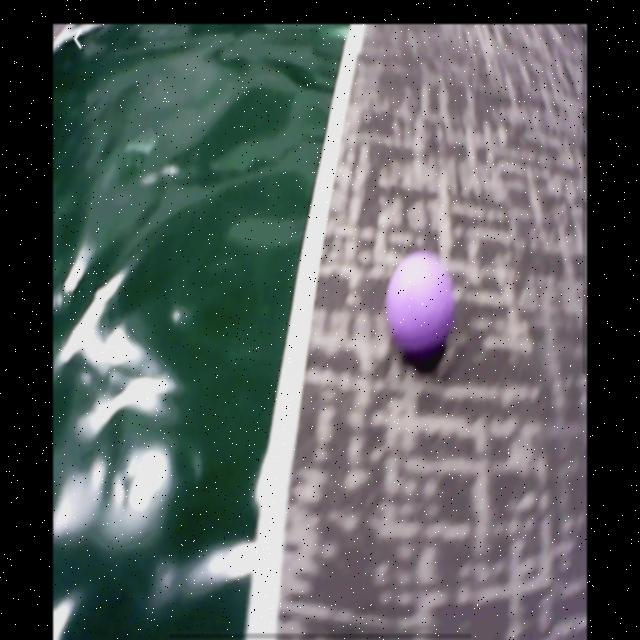ball: (388, 257, 455, 351)
